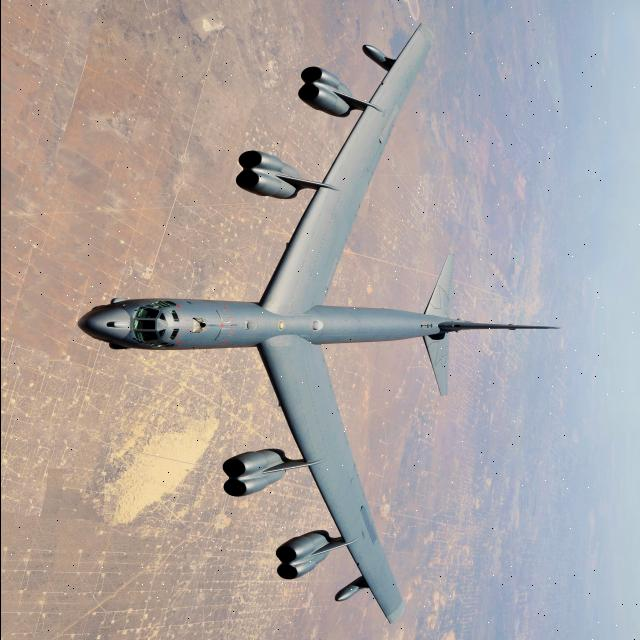B52: (68, 3, 574, 630)
